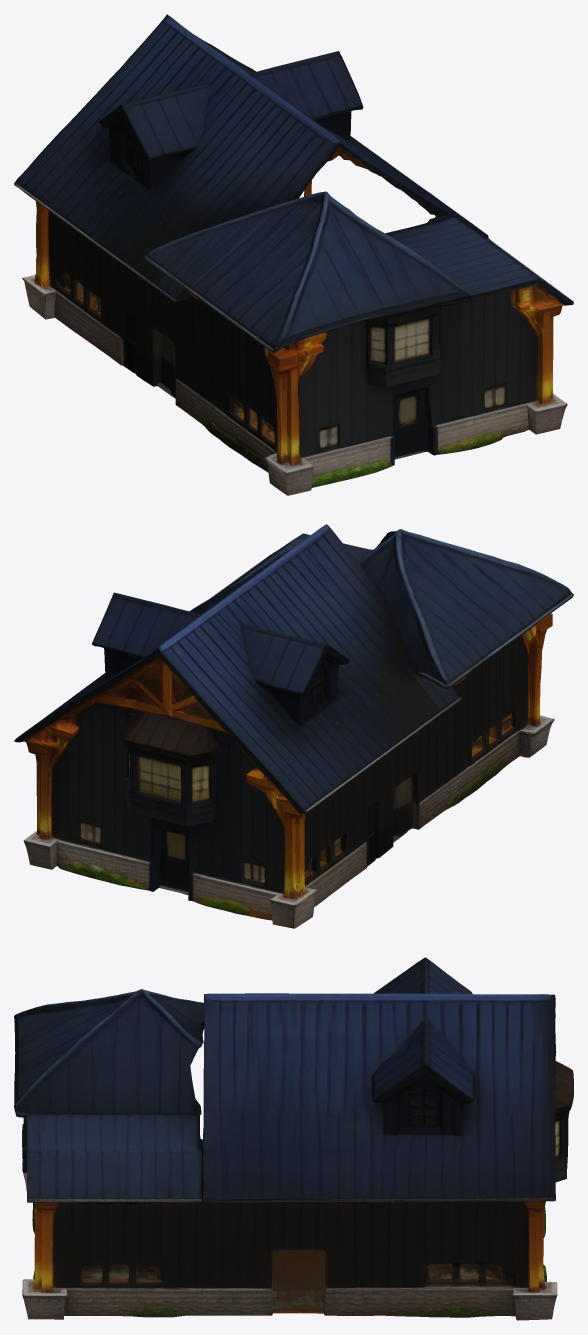
The picture shows the model from 3 angles, top to bottom: view 1: azimuth 30°, elevation 25°; view 2: azimuth 150°, elevation 25°; view 3: azimuth 270°, elevation 25°; orthographic projection. The views are drawn at different scales.
Visible parts, largest first — view 1: world; view 2: world; view 3: world.
Boxes of the visible parts, x1,y1,x2,y2 form: world: (14,14,573,495); world: (14,524,573,928); world: (14,957,573,1320).
Bounding box in the file's own units: 0.6448 × 0.5167 × 0.9992.
1 material, 1 textured.
